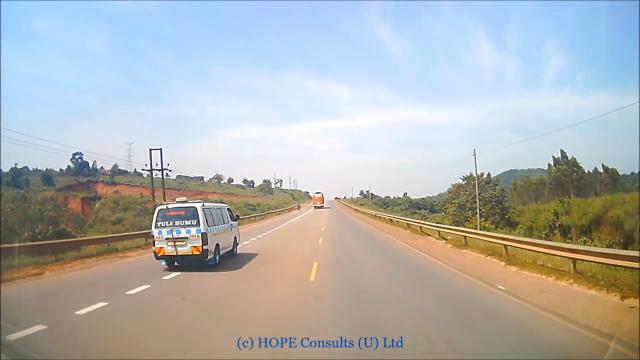van: (150, 189, 245, 272)
